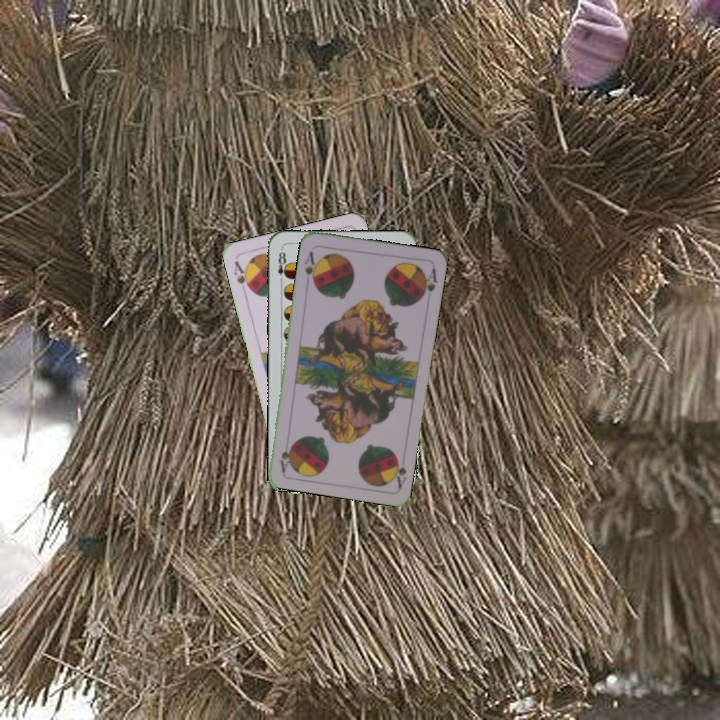E8: (274, 246, 291, 286)
SA: (230, 257, 254, 296), (300, 247, 321, 286), (388, 452, 409, 491)
